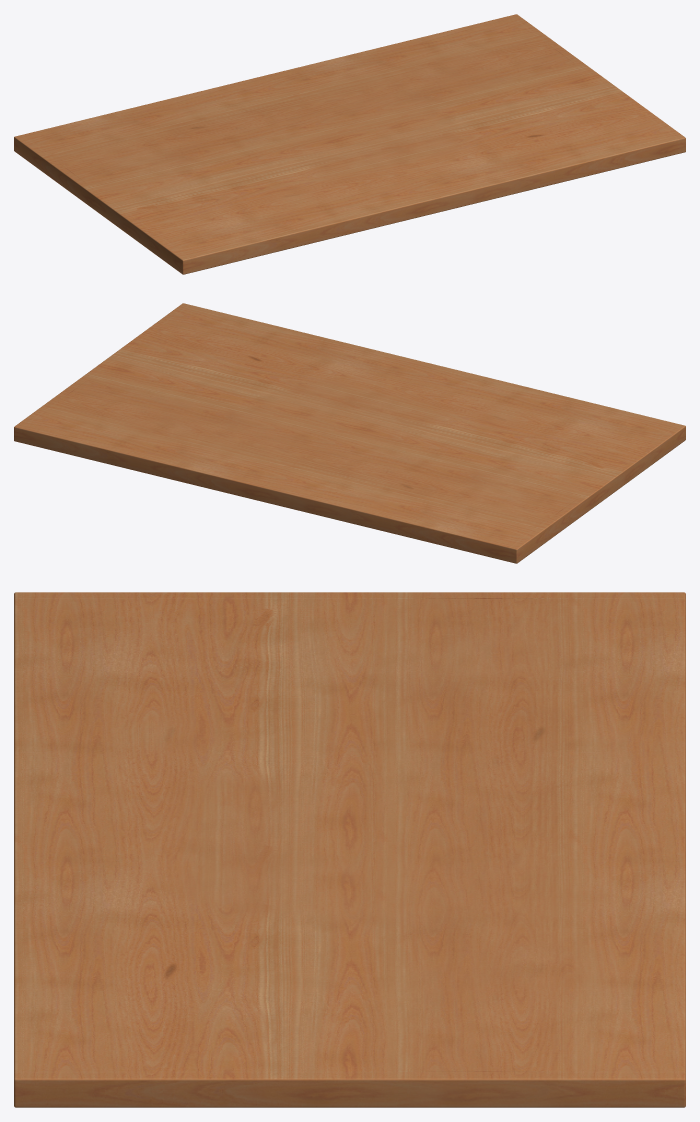
The model's file is SM_Counter_Wall.fbx.
The picture shows the model from 3 angles, top to bottom: view 1: azimuth 30°, elevation 25°; view 2: azimuth 150°, elevation 25°; view 3: azimuth 270°, elevation 25°; orthographic projection. The views are drawn at different scales.
Visible parts, largest first — view 1: SM_Counter_Wall; view 2: SM_Counter_Wall; view 3: SM_Counter_Wall.
Boxes of the visible parts, x1=… form: SM_Counter_Wall: x1=14, y1=14, x2=685, y2=274; SM_Counter_Wall: x1=14, y1=303, x2=685, y2=563; SM_Counter_Wall: x1=14, y1=592, x2=685, y2=1107.
Size of the model in its own units: 103 by 2.88 by 60.
1 material, 1 textured.
